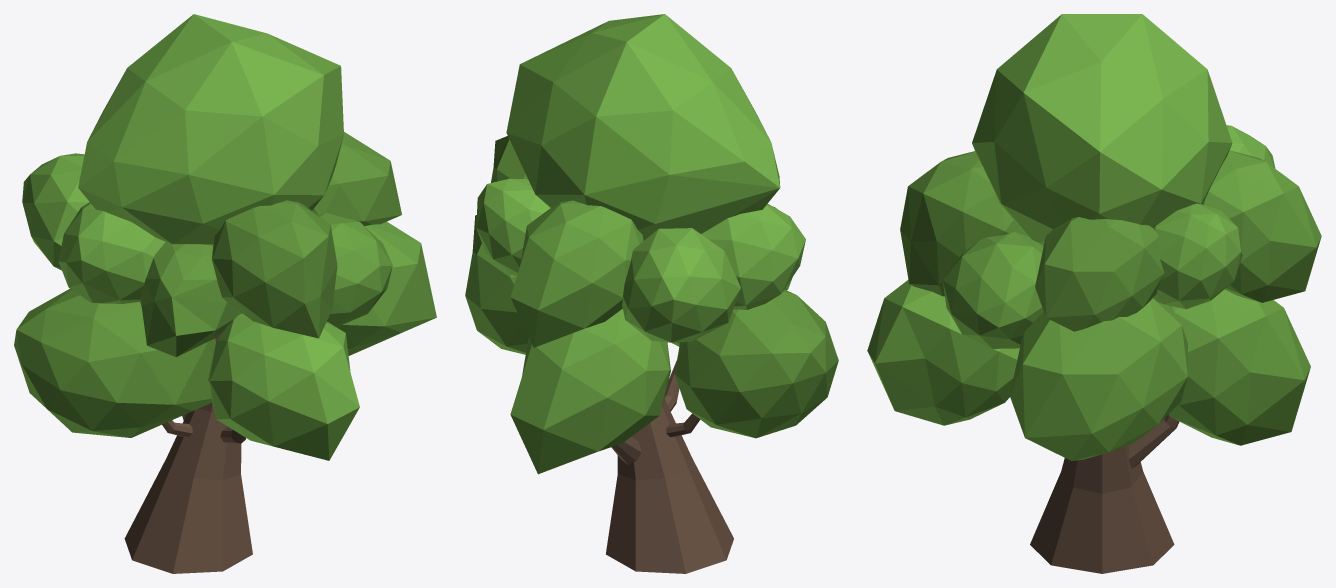
Rendered from tree2a.glb.
The picture shows the model from 3 angles, left to right: view 1: azimuth 30°, elevation 25°; view 2: azimuth 150°, elevation 25°; view 3: azimuth 270°, elevation 25°; orthographic projection. The views are drawn at different scales.
Parts seen in each view (by area): view 1: tree_0024; view 2: tree_0024; view 3: tree_0024.
Part boxes in pixels (x1,y1,x2,y2): tree_0024: [14, 14, 436, 573]; tree_0024: [465, 14, 838, 573]; tree_0024: [867, 14, 1321, 573].
Bounding box in the file's own units: 2.61 × 3.41 × 2.59.
